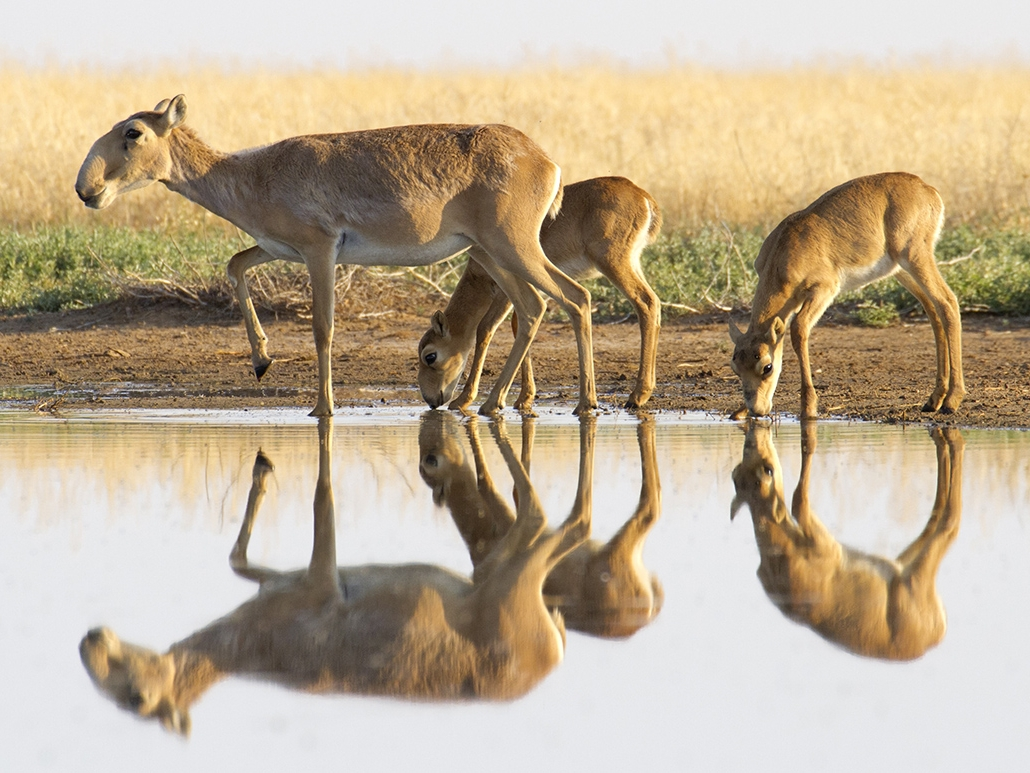saiga: (70, 103, 595, 430), (722, 171, 966, 414)
